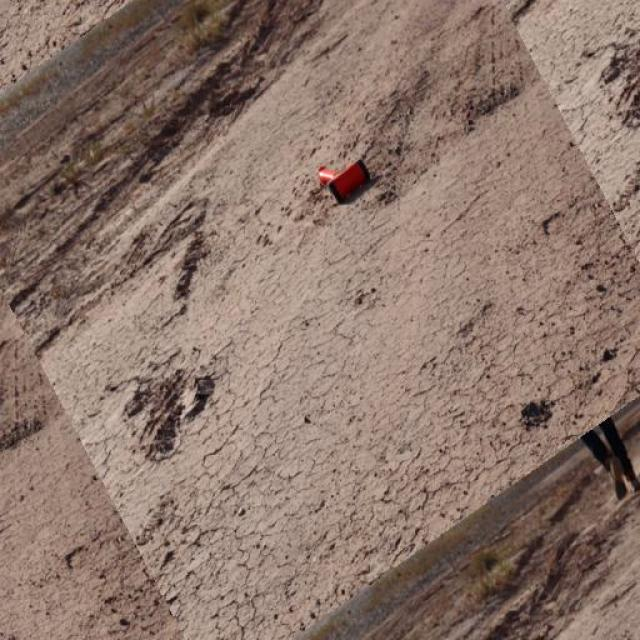mallet: (315, 158, 370, 204)
